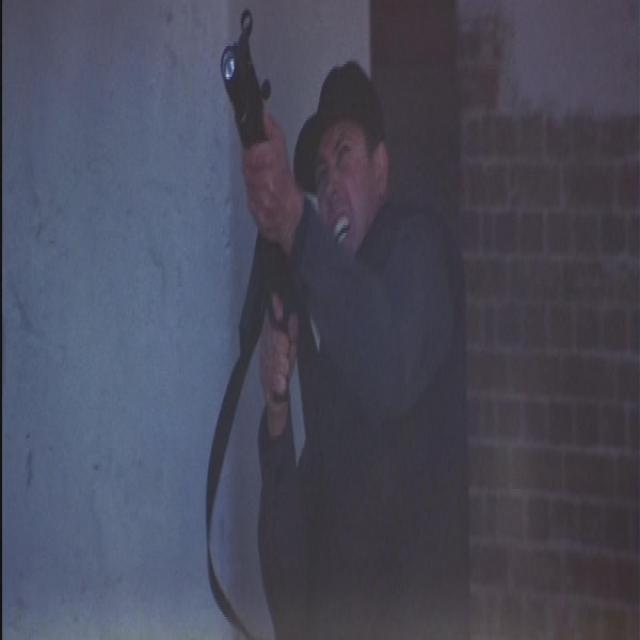rifle: (221, 7, 324, 430)
